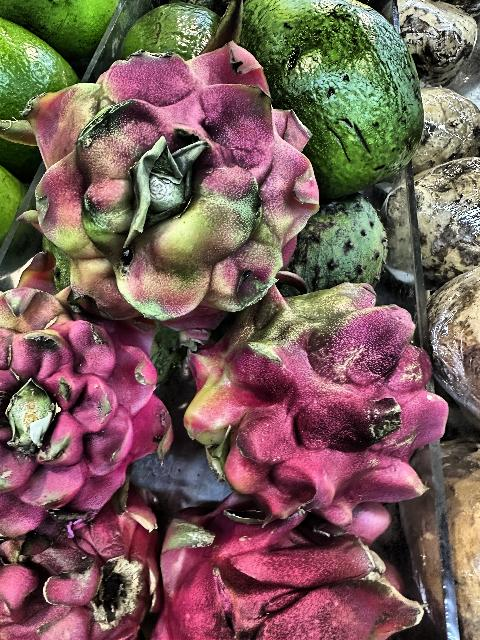buah-naga-belum-matang: (4, 68, 330, 296), (182, 290, 444, 538), (0, 288, 184, 512)
buah-naga-matang: (158, 504, 426, 640), (0, 500, 152, 636)
